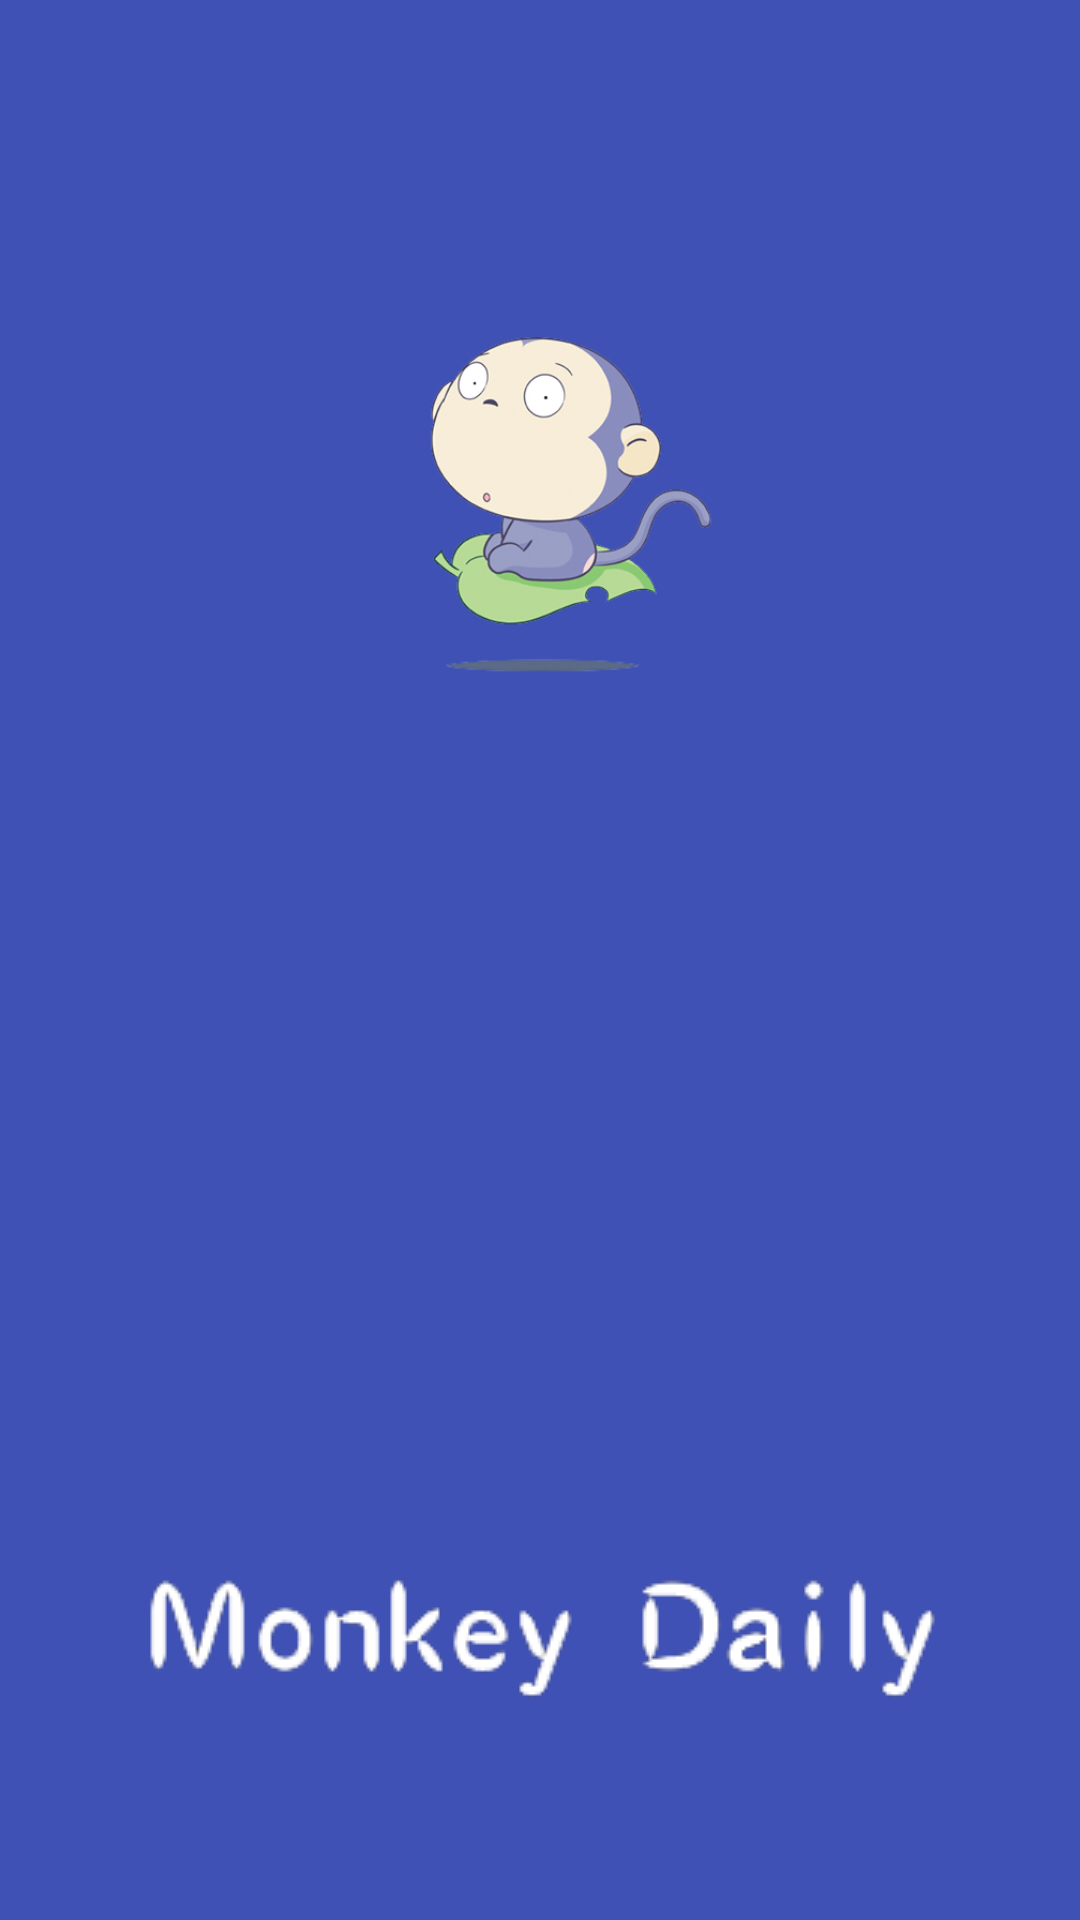

Icon bounding boxes for this 1080*1920 phone screenshot, format (x1, y1, x2, y2):
monkey: (431, 337, 711, 625)
